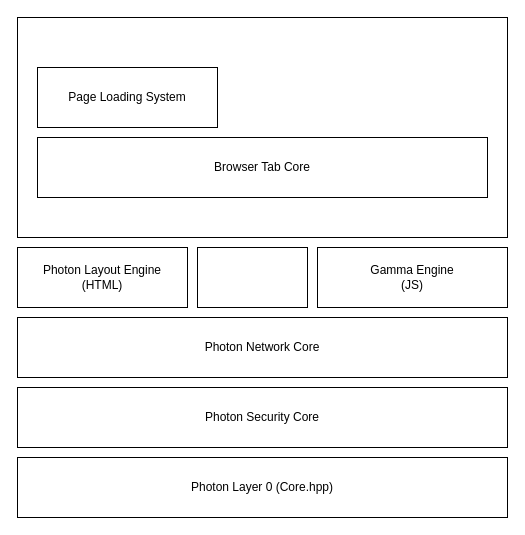
Some shapes in this 525 by 535 pixel diagram are drawn without their labels. The box of each missing label's shape, as (x1, y1, x2, y2) in pixels:
Photon Layout Engine (CSS): (196, 246, 308, 308)
Tab System: (16, 16, 508, 238)
